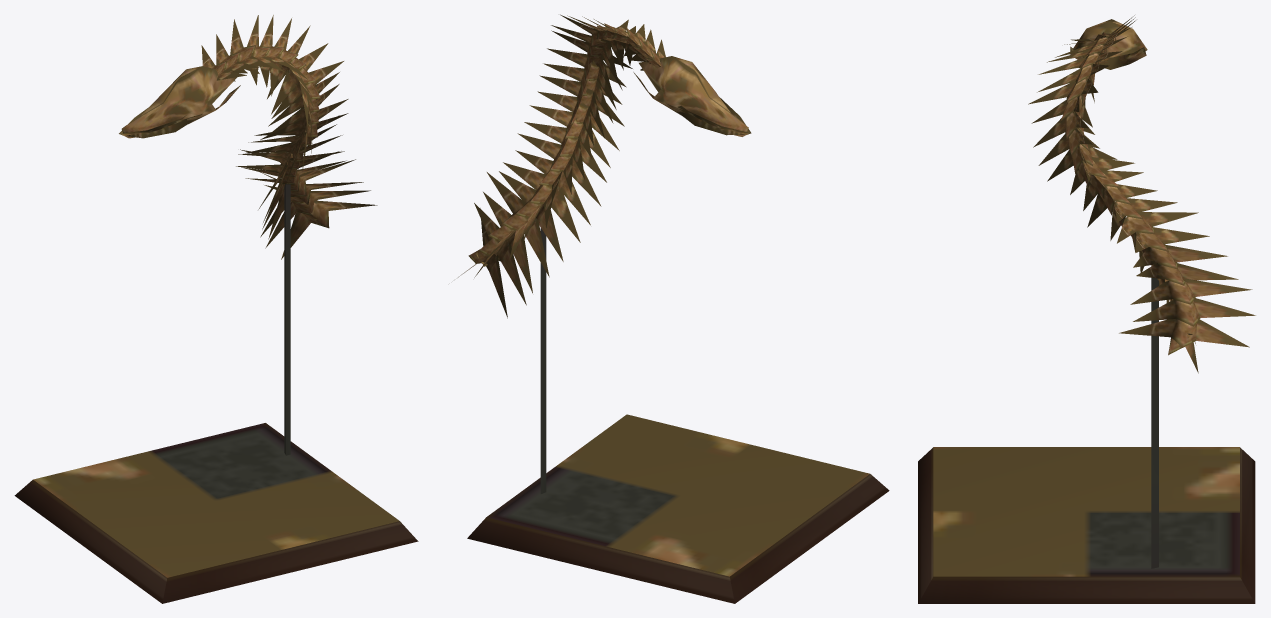
The model's file is int_din_suz_a.dae.
The picture shows the model from 3 angles, left to right: view 1: azimuth 30°, elevation 25°; view 2: azimuth 150°, elevation 25°; view 3: azimuth 270°, elevation 25°; orthographic projection. The views are drawn at different scales.
Visible parts, largest first — view 1: int_din_suz_a; view 2: int_din_suz_a; view 3: int_din_suz_a.
Part boxes in pixels (x1,y1,x2,y2): int_din_suz_a: (14,15,418,603); int_din_suz_a: (458,14,889,603); int_din_suz_a: (918,15,1255,603).
Bounding box in the file's own units: 69.54 × 104 × 58.93.
Materials: 1 (1 with a texture image).
